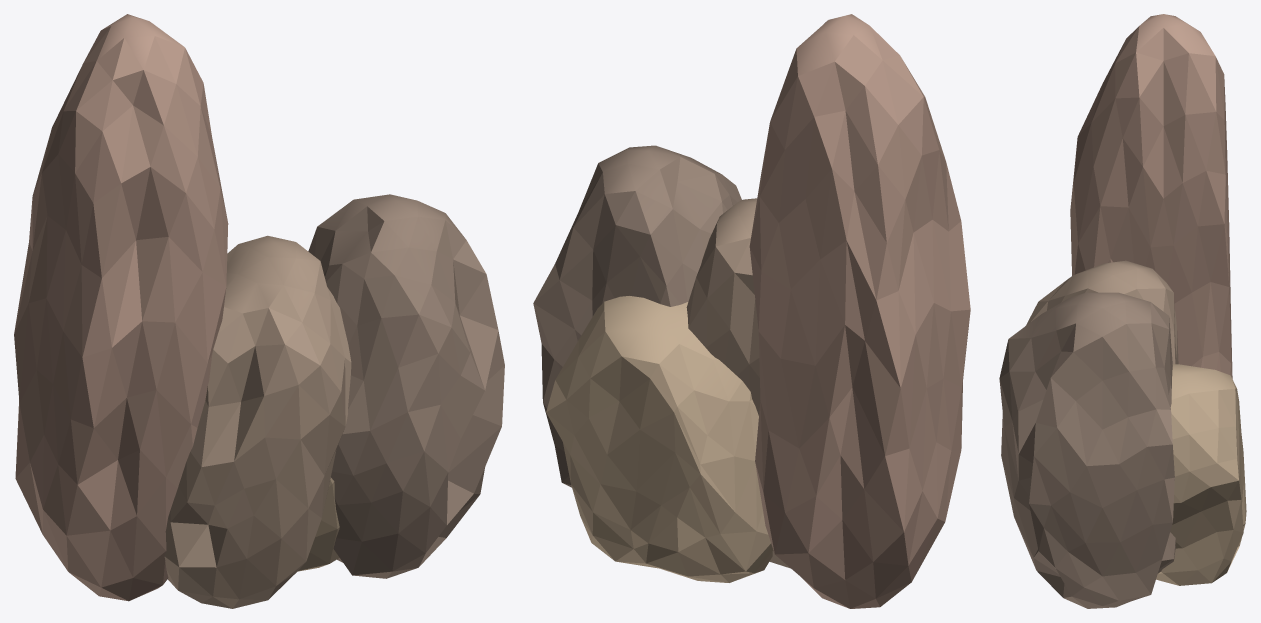
The model's file is Aiguille_0.fbx.
The picture shows the model from 3 angles, left to right: view 1: azimuth 30°, elevation 25°; view 2: azimuth 150°, elevation 25°; view 3: azimuth 270°, elevation 25°; orthographic projection. The views are drawn at different scales.
Visible parts, largest first — view 1: Aiguille_0; view 2: Aiguille_0; view 3: Aiguille_0.
Boxes of the visible parts, box(x1,y1,x2,y2) form: Aiguille_0: box(14, 14, 504, 608); Aiguille_0: box(533, 14, 970, 608); Aiguille_0: box(999, 14, 1246, 608).
Bounding box in the file's own units: 239 × 337 × 151.
